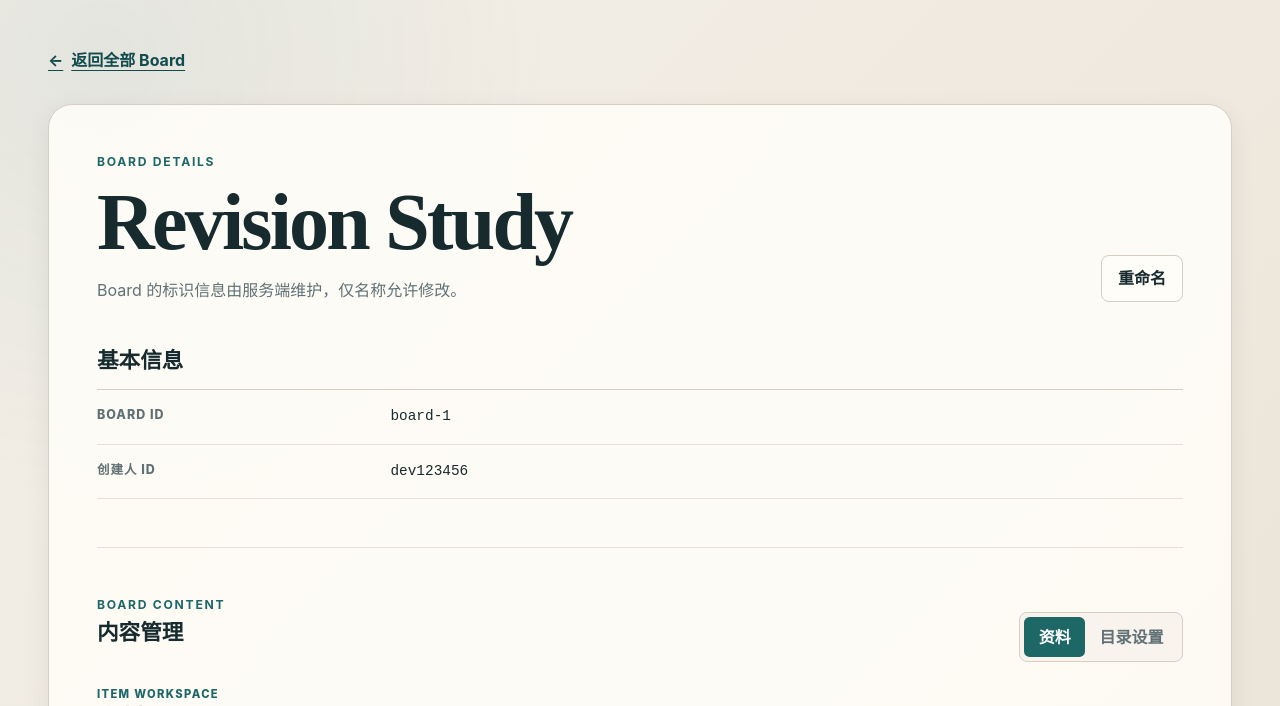
BoardDetailsPage › renames the board only after the backend confirms success
The width and height of the screenshot is (1280, 706).
Expected: the heading "Revision Study" is shown, top-left (97, 179), bottom-right (571, 266)
Click the button "重命名" at [1142, 278], box top-left (1101, 255), bottom-right (1183, 302)
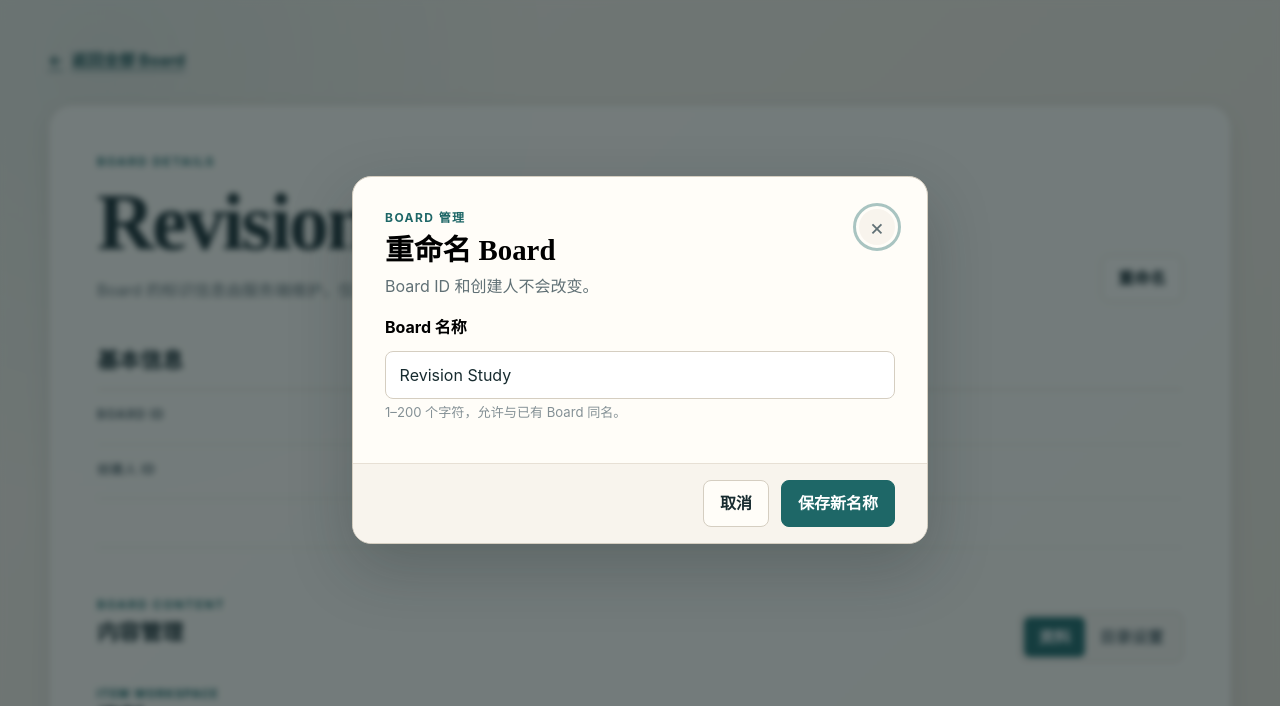
Replace the text in the field labelled "Board 名称" with "Revised title" at [640, 375], box top-left (385, 351), bottom-right (895, 399)
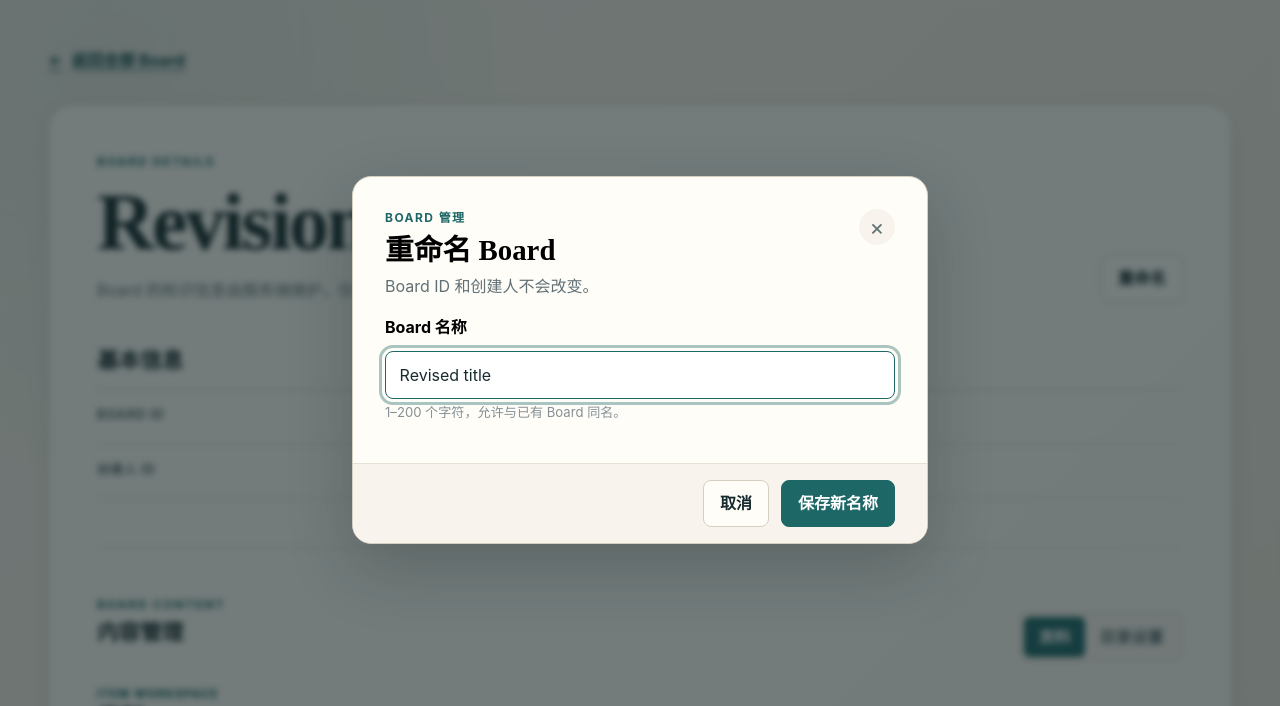
Click the button "保存新名称" at [838, 504], box top-left (781, 480), bottom-right (895, 527)
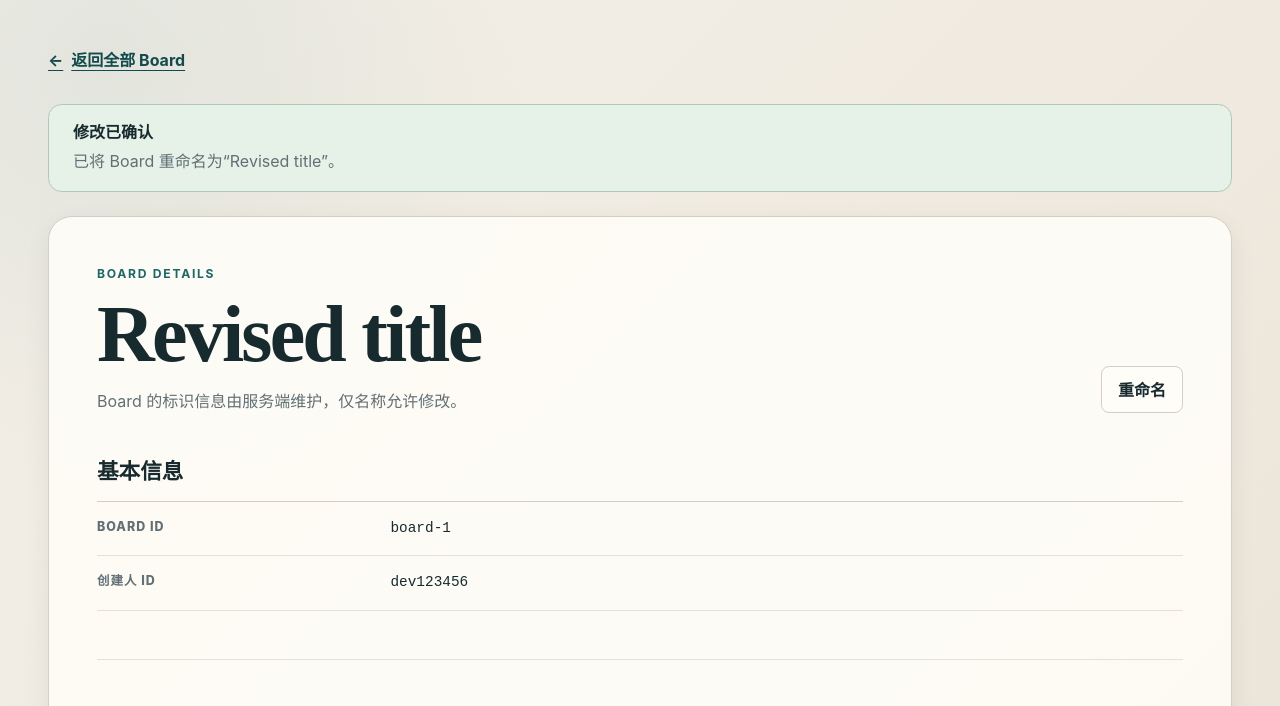
Now the heading "Revised title" is shown, box top-left (97, 291), bottom-right (480, 377)
